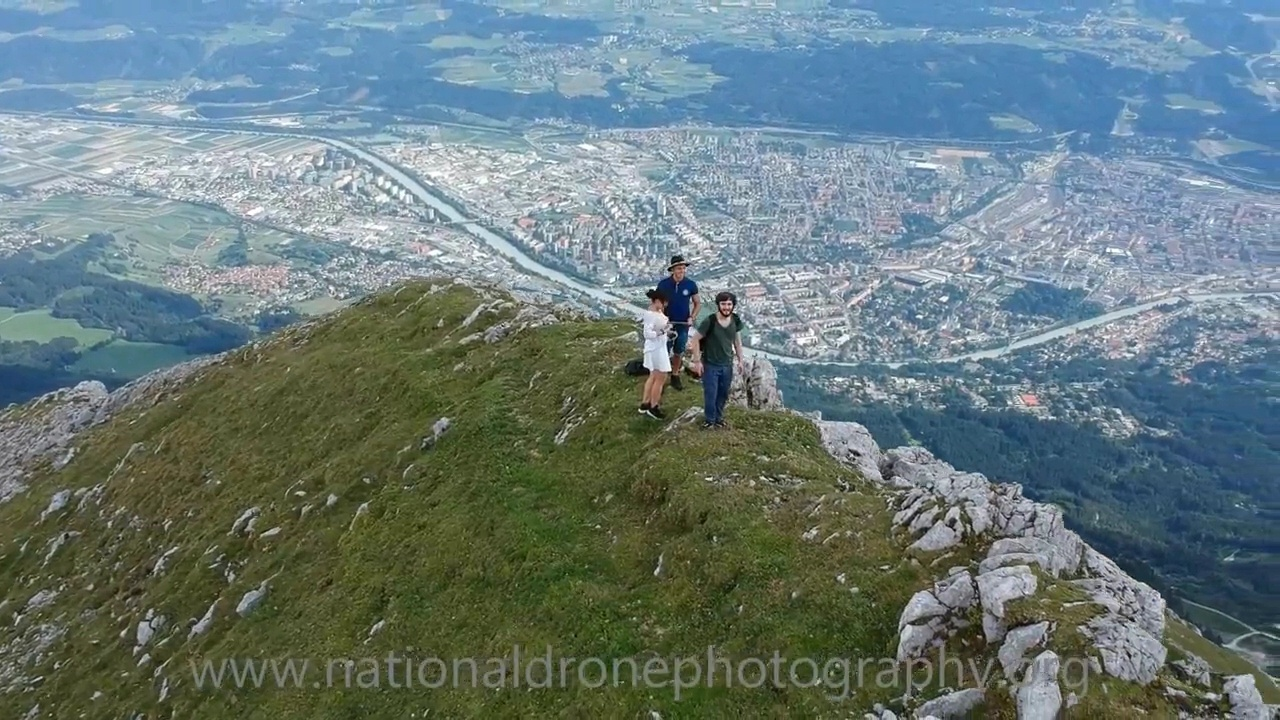insan: (692, 290, 743, 429), (640, 285, 679, 418), (656, 251, 690, 390)
